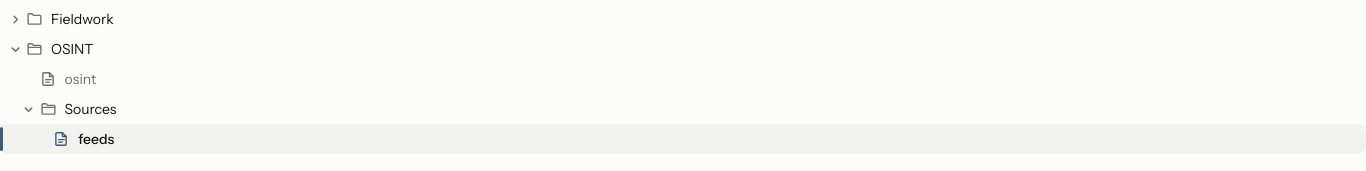
Test case: showing where the selected note lives › lets a revealed folder be closed again, and leaves it closed
Click the button "Sources" at {"x": 91, "y": 109}, box [38,94,1360,123]
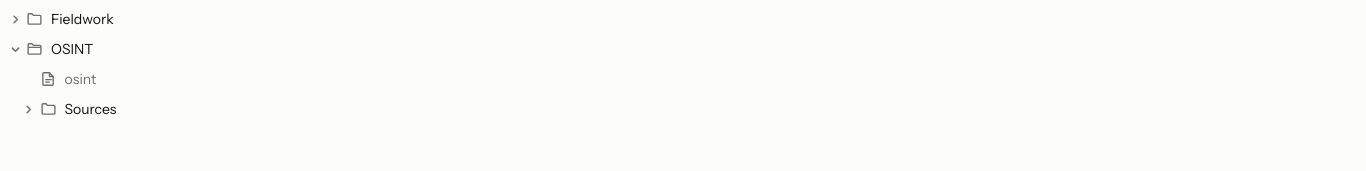
expect the button "feeds" is gone: met
